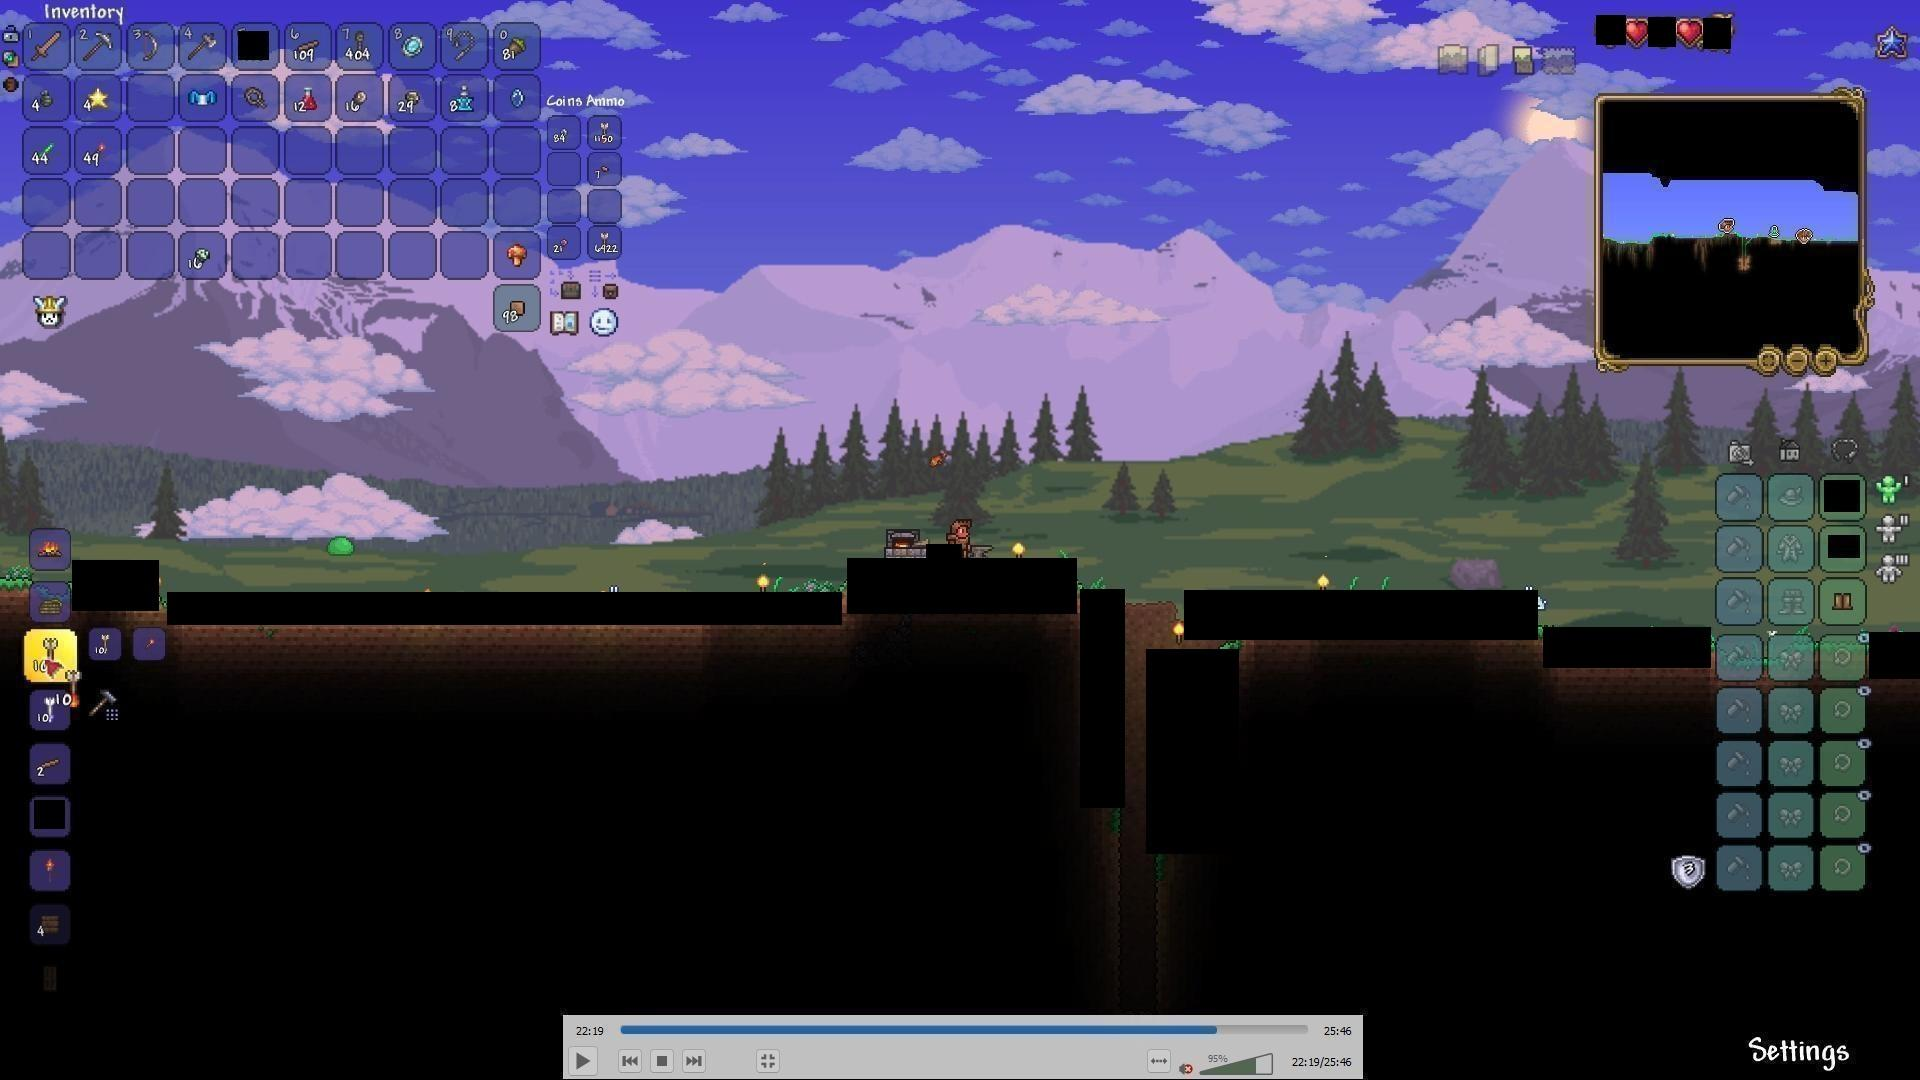dirt: (0, 564, 29, 608)
heart: (1676, 18, 1702, 47), (1625, 18, 1651, 47)
legs: (1830, 585, 1855, 615)
slime: (323, 534, 359, 559)
